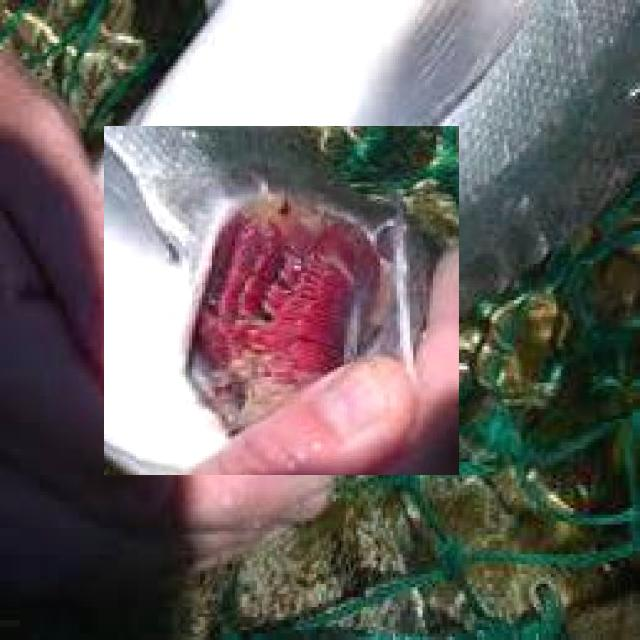Gill Disease: (105, 124, 458, 477)
